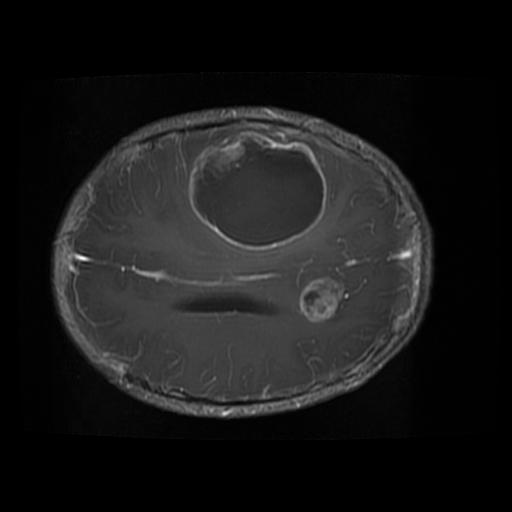glioma: (190, 134, 323, 248)
